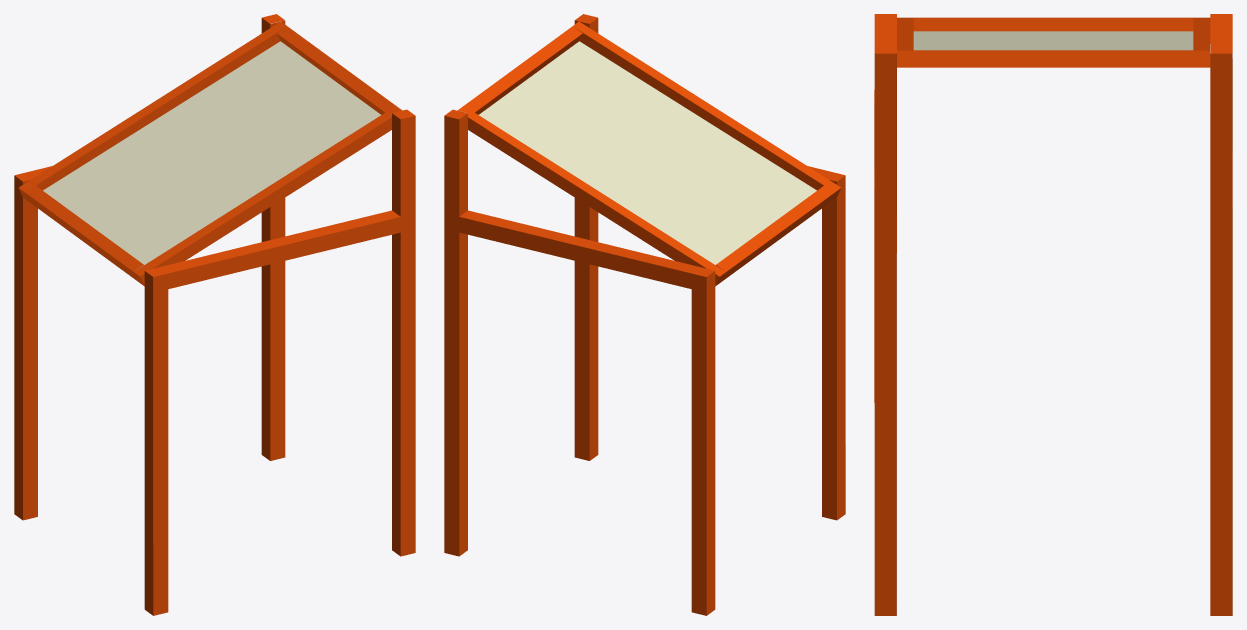
File: RWAL_op40.dae
The picture shows the model from 3 angles, left to right: view 1: azimuth 30°, elevation 25°; view 2: azimuth 150°, elevation 25°; view 3: azimuth 270°, elevation 25°; orthographic projection. The views are drawn at different scales.
Parts seen in each view (by area): view 1: RWAL_op40; view 2: RWAL_op40; view 3: RWAL_op40.
Part boxes in pixels (x1,y1,x2,y2): RWAL_op40: (14, 14, 415, 615); RWAL_op40: (444, 14, 845, 615); RWAL_op40: (874, 14, 1232, 615).
Bounding box in the file's own units: 0.7088 × 0.6403 × 1.11.
2 materials, 2 textured.
